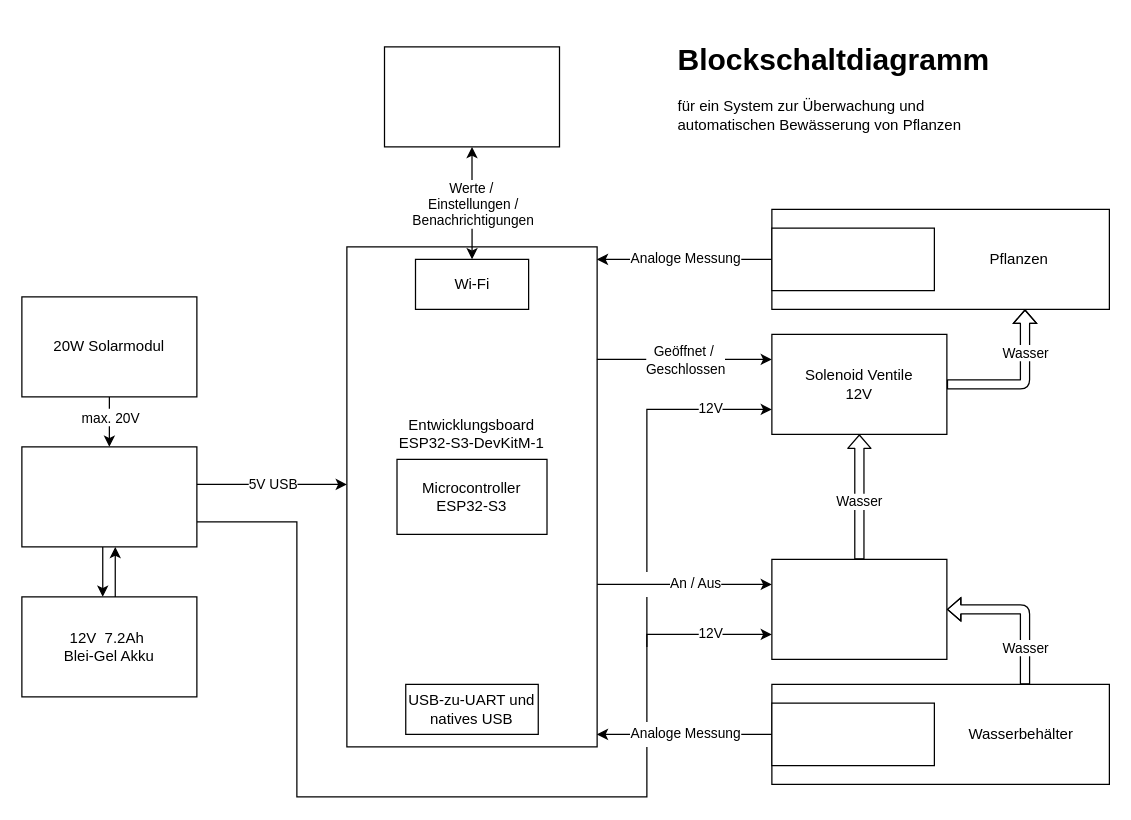
Image size: 1131x820. Some labels were removed from this diagram. Here are the shapes that lost their labels. From the top down, the centre of each, then its label:
the point at 471,96: App / Web Interface
the point at 852,259: Bodenfeuchtigkeits-sensoren
the point at 109,496: Solar-Laderegler
the point at 859,608: Wasserpumpe 12V max. 6A
the point at 852,734: Wasserstandssensor
